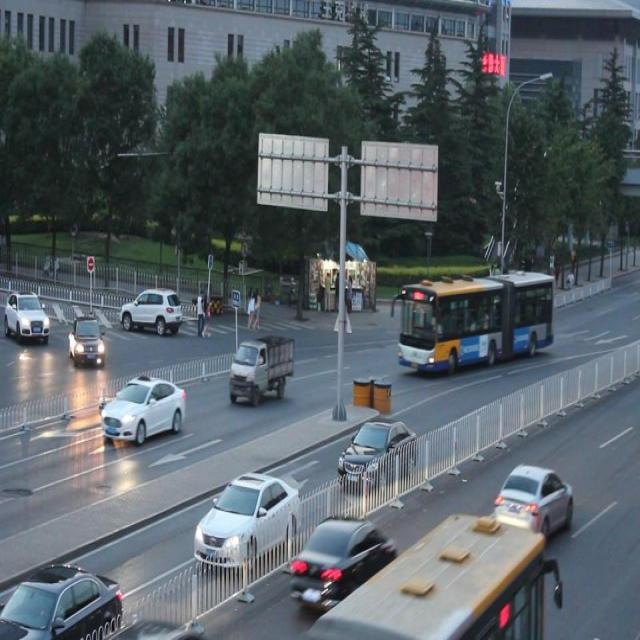bus: (228, 336, 294, 402)
car: (194, 474, 300, 567), (290, 515, 394, 607), (0, 562, 120, 640), (492, 461, 572, 535), (101, 375, 186, 443), (339, 419, 416, 488), (124, 288, 180, 334), (1, 288, 49, 340), (68, 313, 106, 368)
van: (293, 506, 544, 640), (399, 272, 554, 374)
